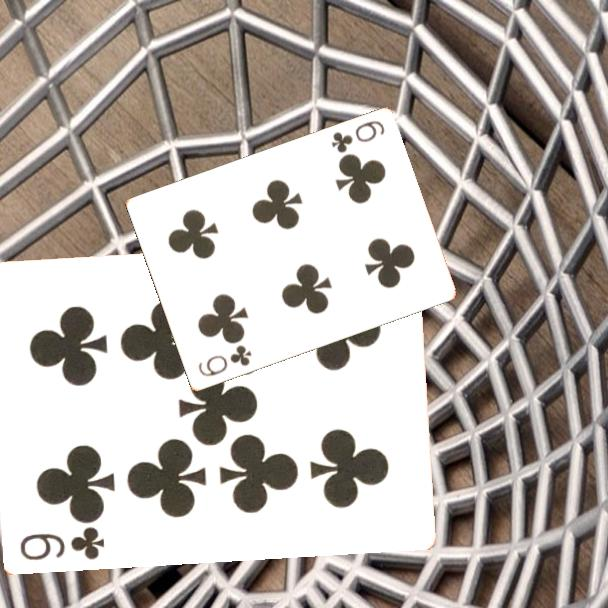c06: (194, 342, 254, 380), (327, 118, 387, 156)
c09: (17, 523, 108, 563)
